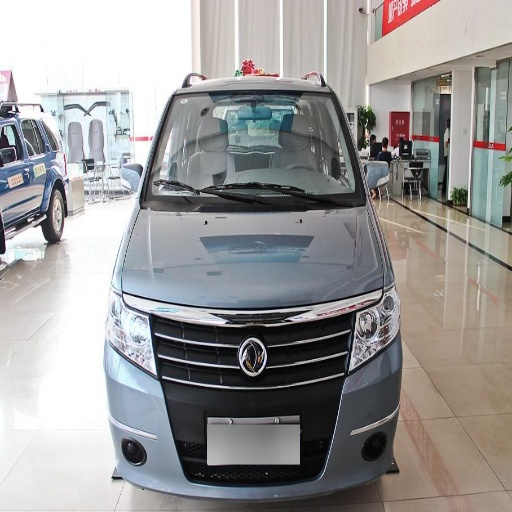front_bumper: (104, 296, 397, 511)
front_right_light: (108, 285, 154, 373)
hood: (121, 199, 387, 310)
